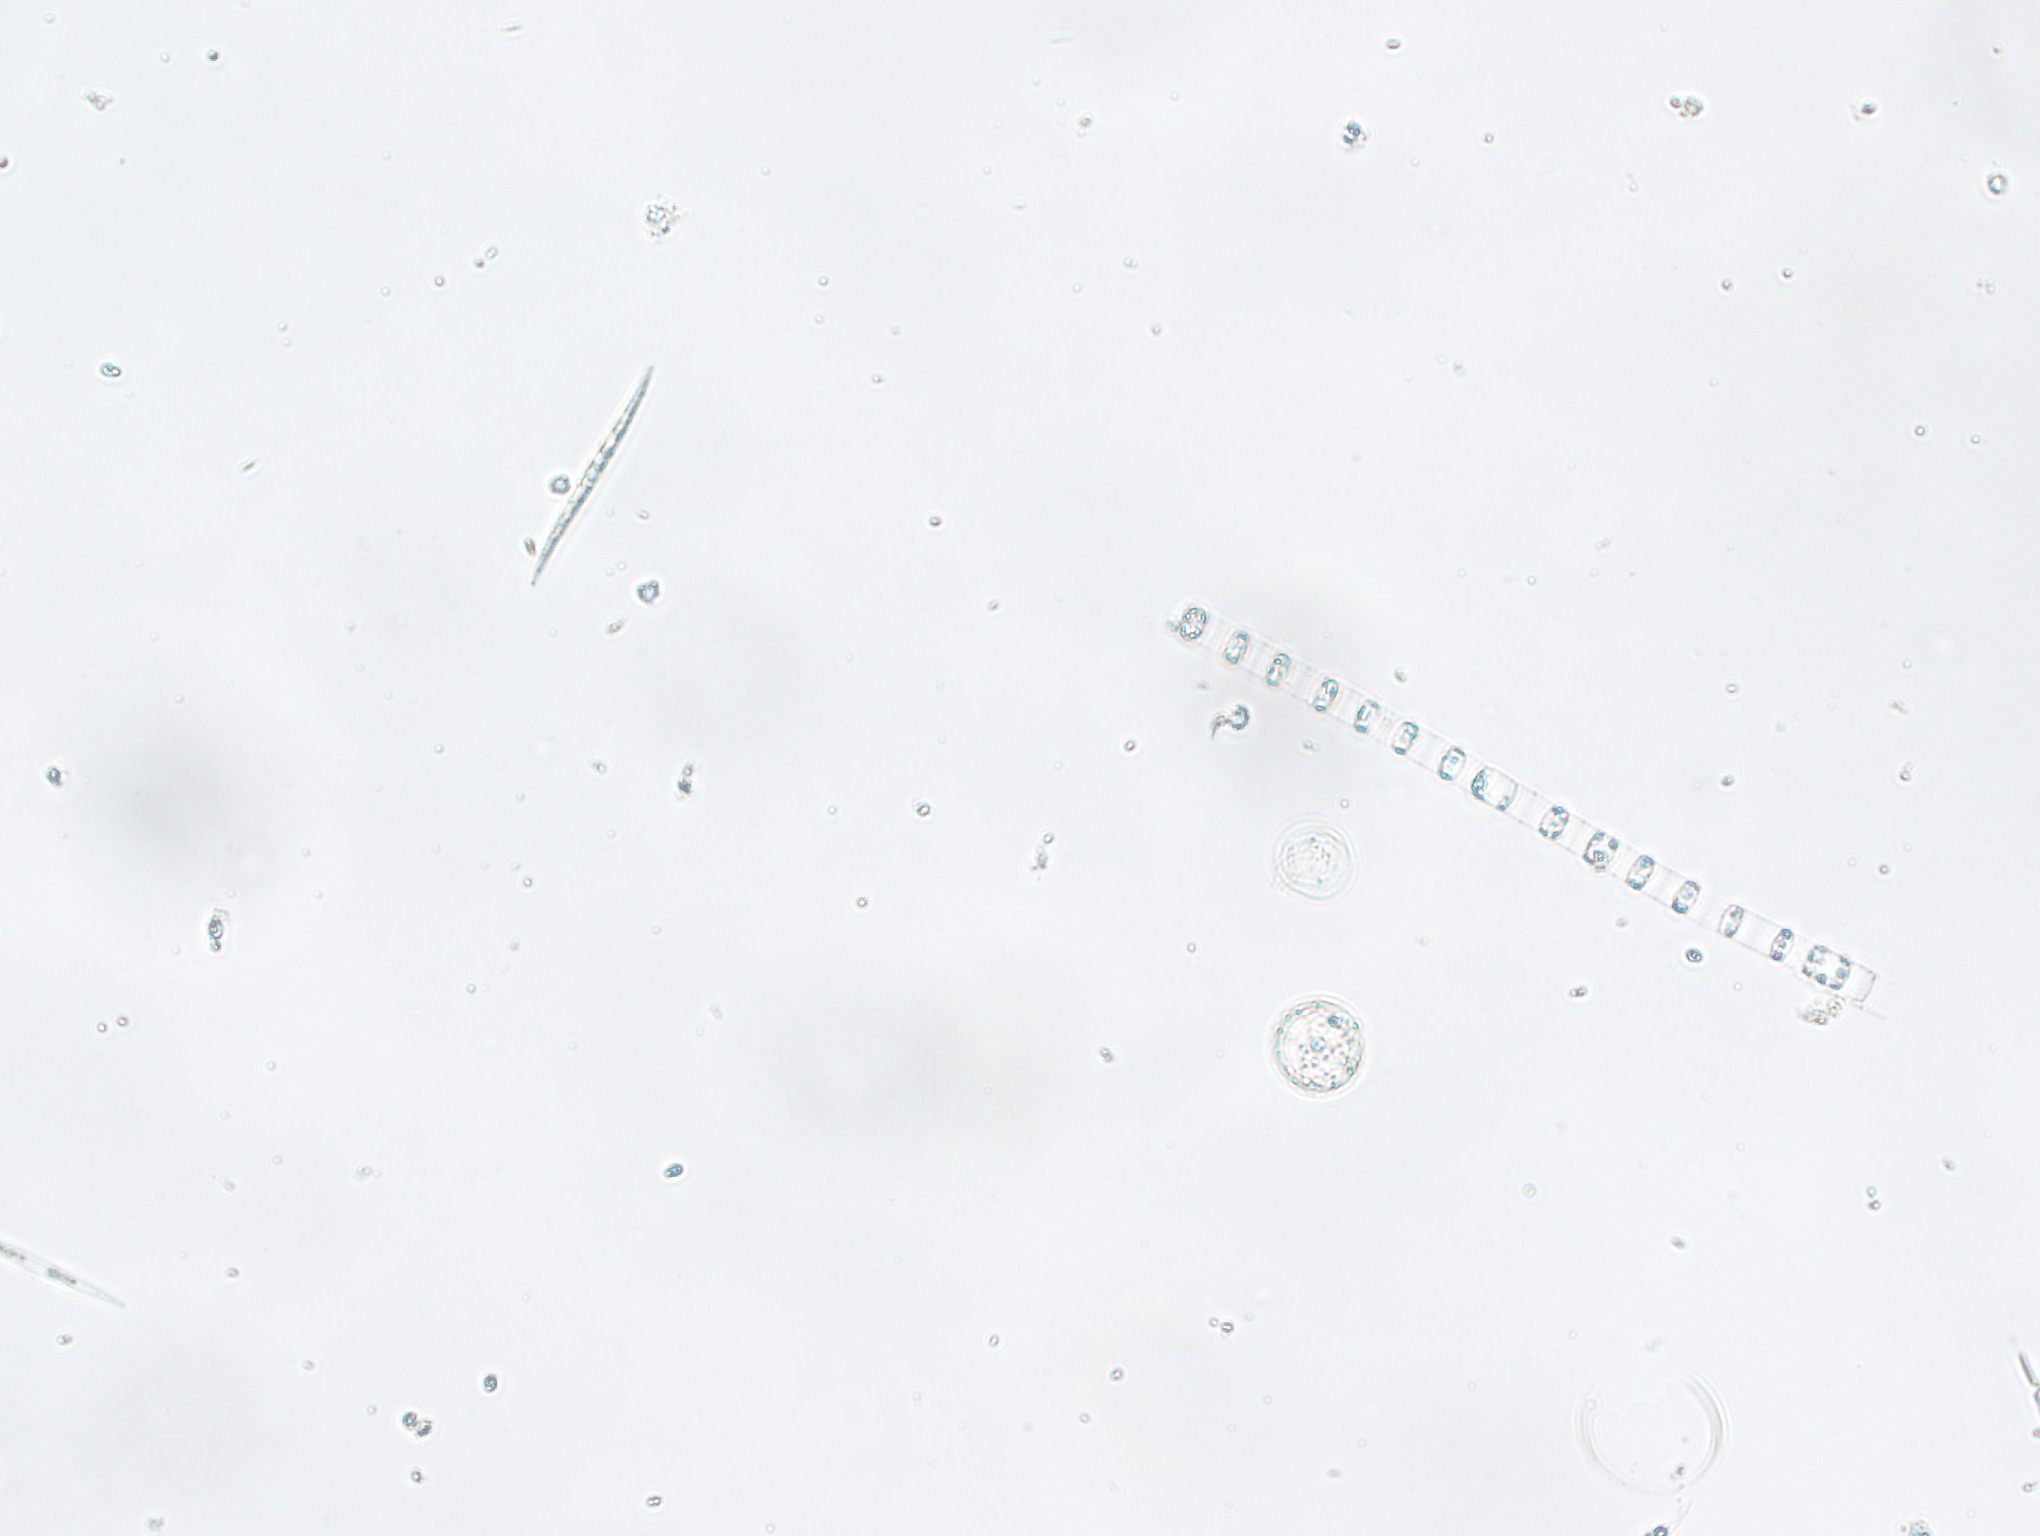pleurosigma pelagicum: (526, 358, 663, 599)
skeletonema: (1142, 595, 1898, 1028)
